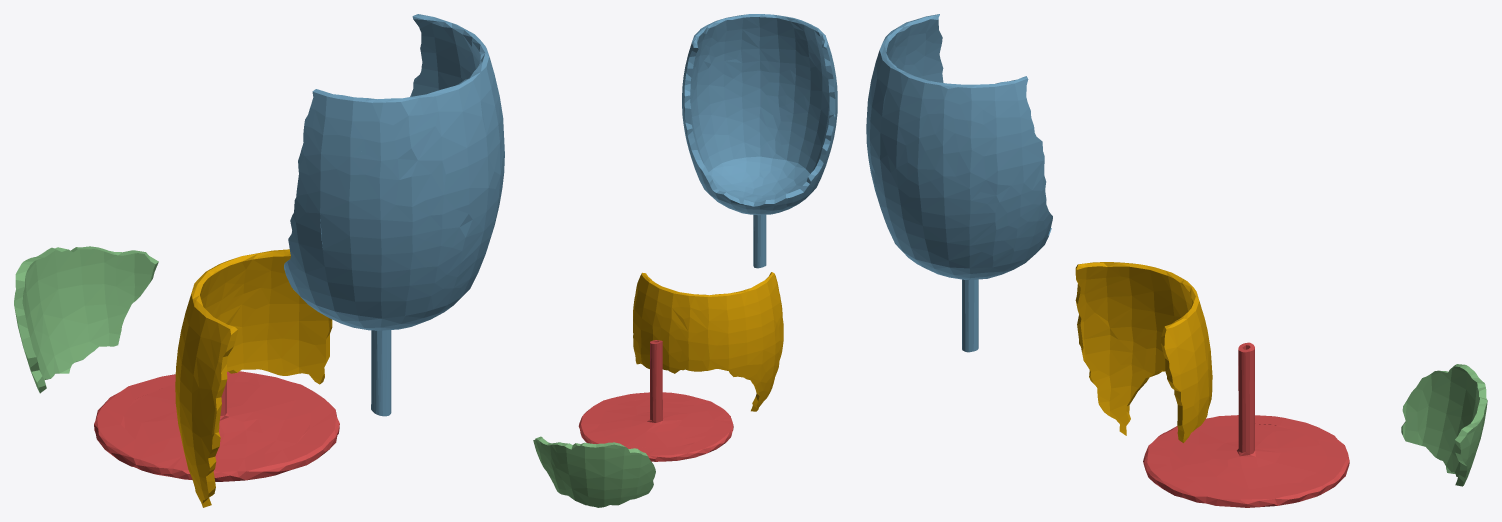
The model's file is fractured_77_4pcs_transformed.glb.
3 views of the same model, side by side, from view 1: azimuth 30°, elevation 25°; view 2: azimuth 150°, elevation 25°; view 3: azimuth 270°, elevation 25° (orthographic). The views are drawn at different scales.
Parts seen in each view (by area): view 1: piece_2.obj, piece_0.obj, piece_1.obj, piece_3.obj; view 2: piece_2.obj, piece_0.obj, piece_1.obj, piece_3.obj; view 3: piece_2.obj, piece_0.obj, piece_1.obj, piece_3.obj.
Boxes of the visible parts, x1,y1,x2,y2 form: piece_2.obj: [284, 14, 504, 416]; piece_0.obj: [175, 249, 332, 507]; piece_1.obj: [94, 371, 339, 481]; piece_3.obj: [14, 246, 158, 393]; piece_2.obj: [682, 14, 837, 268]; piece_0.obj: [633, 272, 783, 411]; piece_1.obj: [578, 340, 733, 461]; piece_3.obj: [533, 436, 655, 507]; piece_2.obj: [866, 14, 1052, 352]; piece_0.obj: [1075, 262, 1212, 442]; piece_1.obj: [1143, 342, 1349, 507]; piece_3.obj: [1401, 364, 1487, 486].
Size of the model in its own units: 0.4519 by 1.05 by 1.35.
